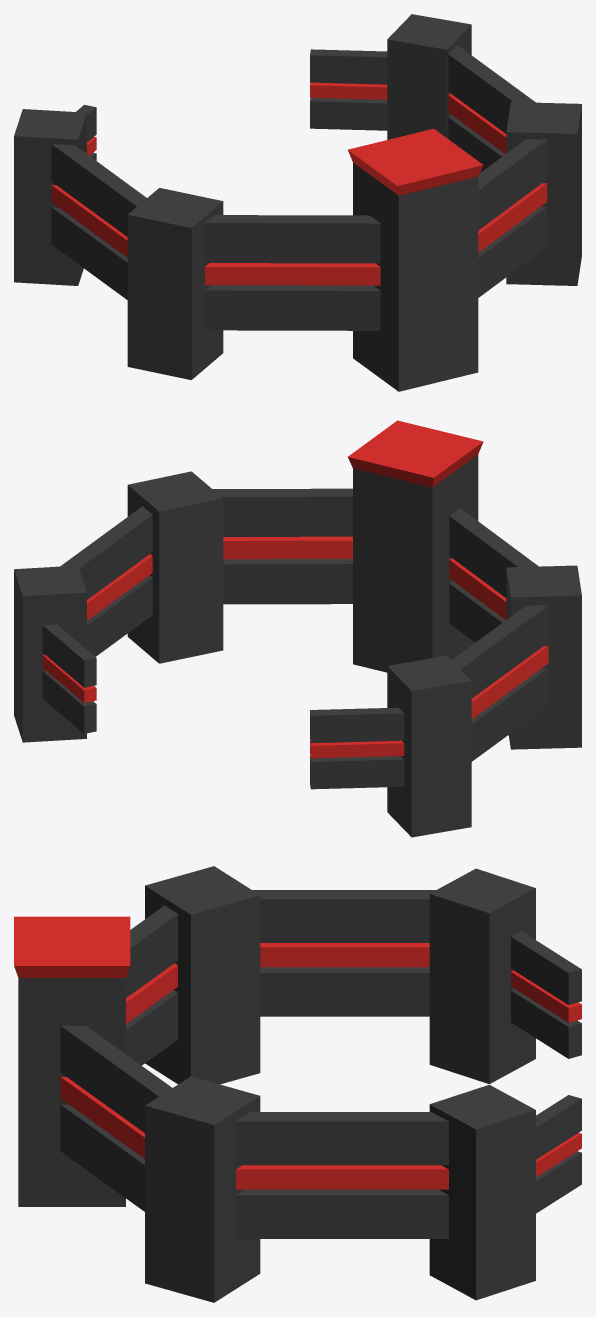
Rendered from WallsLevel1.fbx.
The picture shows the model from 3 angles, top to bottom: view 1: azimuth 30°, elevation 25°; view 2: azimuth 150°, elevation 25°; view 3: azimuth 270°, elevation 25°; orthographic projection. The views are drawn at different scales.
Visible parts, largest first — view 1: Cube.185; view 2: Cube.185; view 3: Cube.185.
Part boxes in pixels (x1,y1,x2,y2): Cube.185: (14,14,581,391); Cube.185: (14,420,581,837); Cube.185: (14,866,581,1302).
Size of the model in its own units: 168 by 72.79 by 154.
